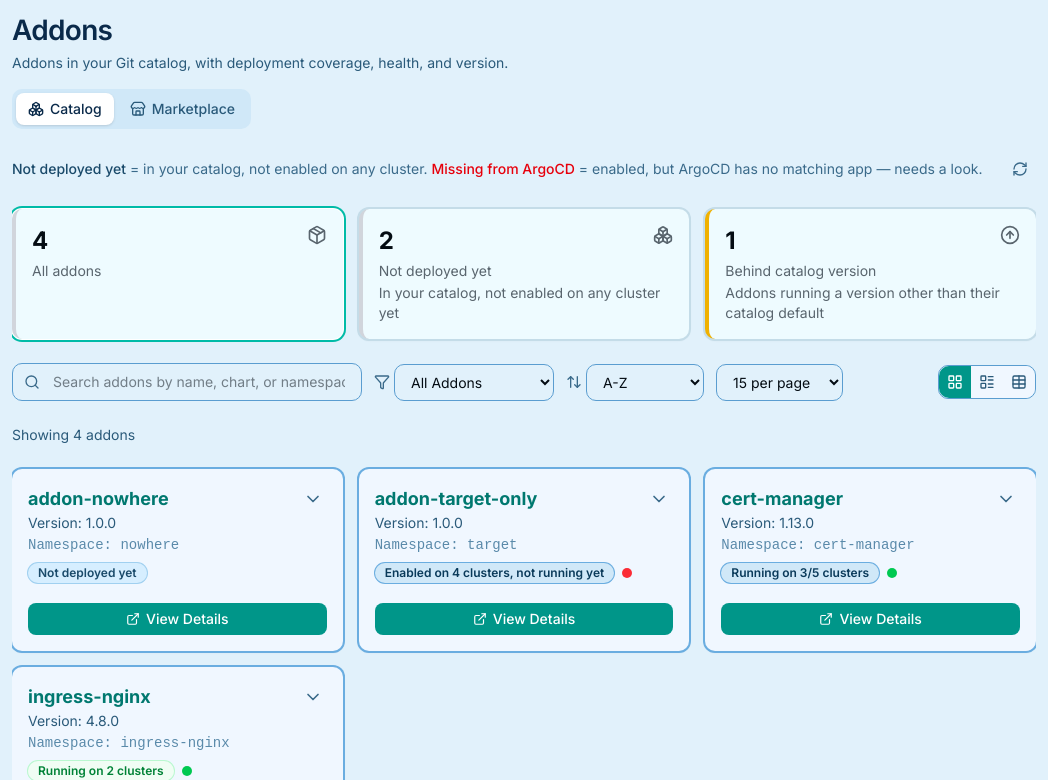
Test: AddonCatalog — top row is inventory, not health (S1, scale-walk day 7) › clicking the Behind catalog version card lands on the versions view, pre-filtered
The image size is (1048, 780).
Click the button "Behind catalog version" at (871, 274), box [705,209,1036,339]
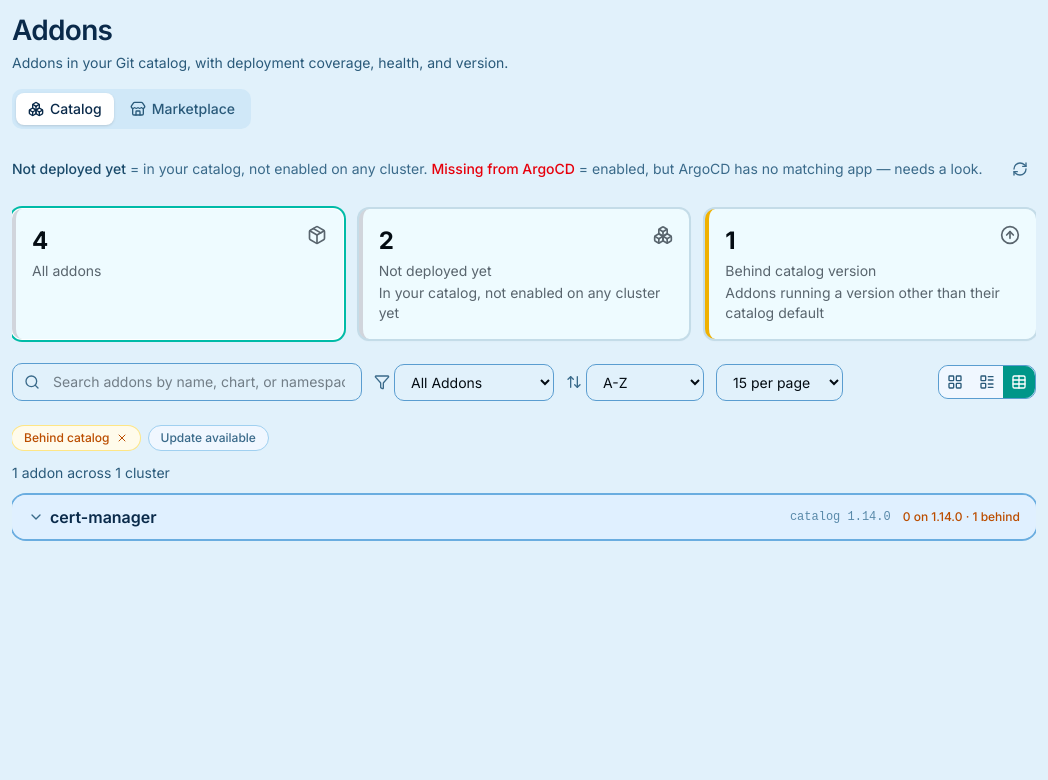
Expected: the text "cert-manager" is shown, [50,505,157,529]
Result: the element with test id "version-list-behind-chip" is shown at [12,426,140,450]
